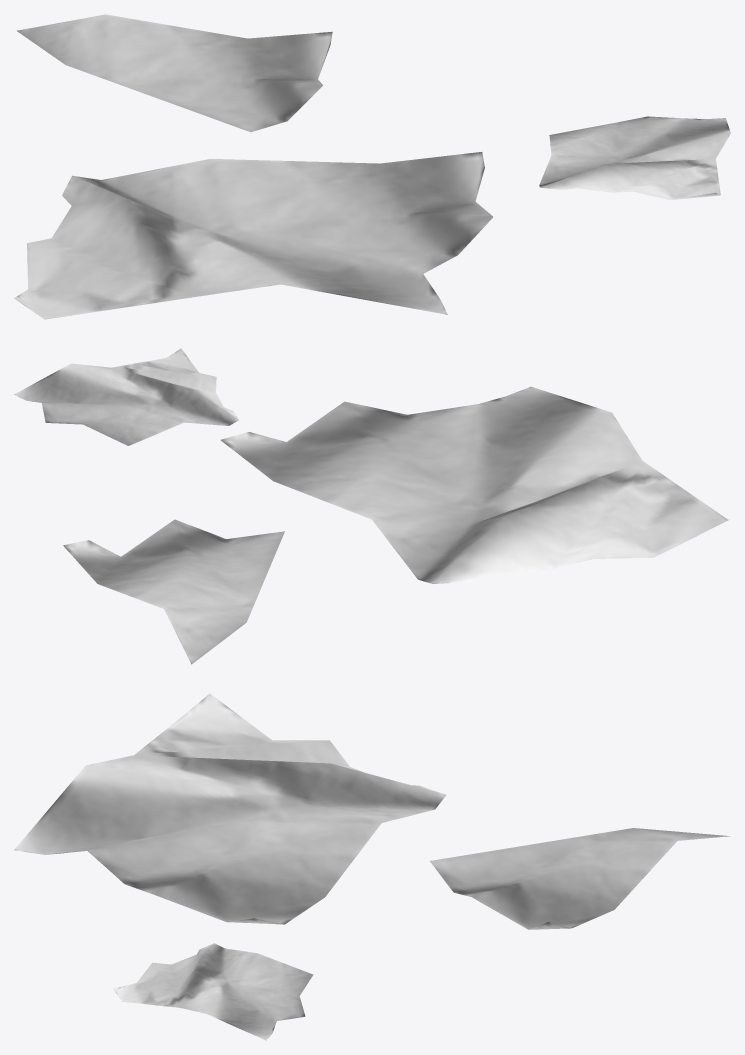
The model's file is ShaShouJia_01_zhipian_01.FBX.
3 renders of one model, top to bottom at view 1: azimuth 30°, elevation 25°; view 2: azimuth 150°, elevation 25°; view 3: azimuth 270°, elevation 25°, orthographic. The views are drawn at different scales.
Parts seen in each view (by area): view 1: ShaShouJia_01_zhipian_01; view 2: ShaShouJia_01_zhipian_01; view 3: ShaShouJia_01_zhipian_01.
Boxes of the visible parts, bbox=[...] form: ShaShouJia_01_zhipian_01: bbox=[14, 14, 730, 319]; ShaShouJia_01_zhipian_01: bbox=[14, 348, 729, 664]; ShaShouJia_01_zhipian_01: bbox=[14, 693, 729, 1040].
Size of the model in its own units: 266 by 15.24 by 248.
